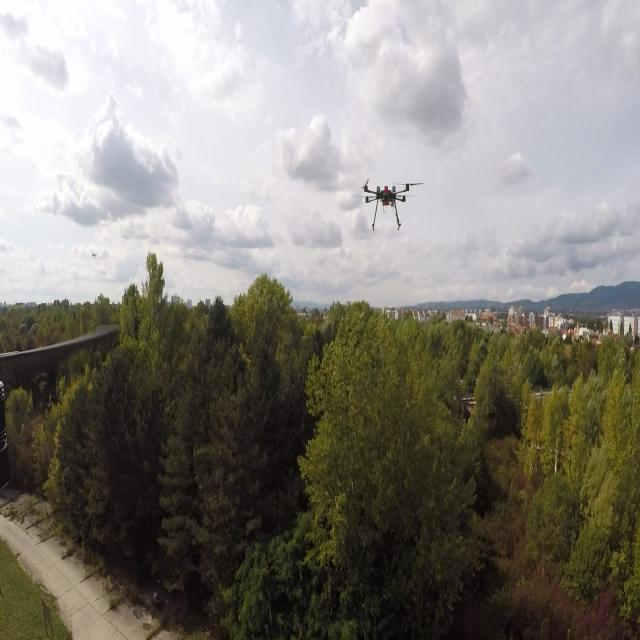UAV: (355, 173, 427, 232)
